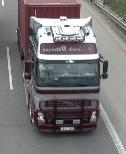Truck: (17, 0, 108, 135)
